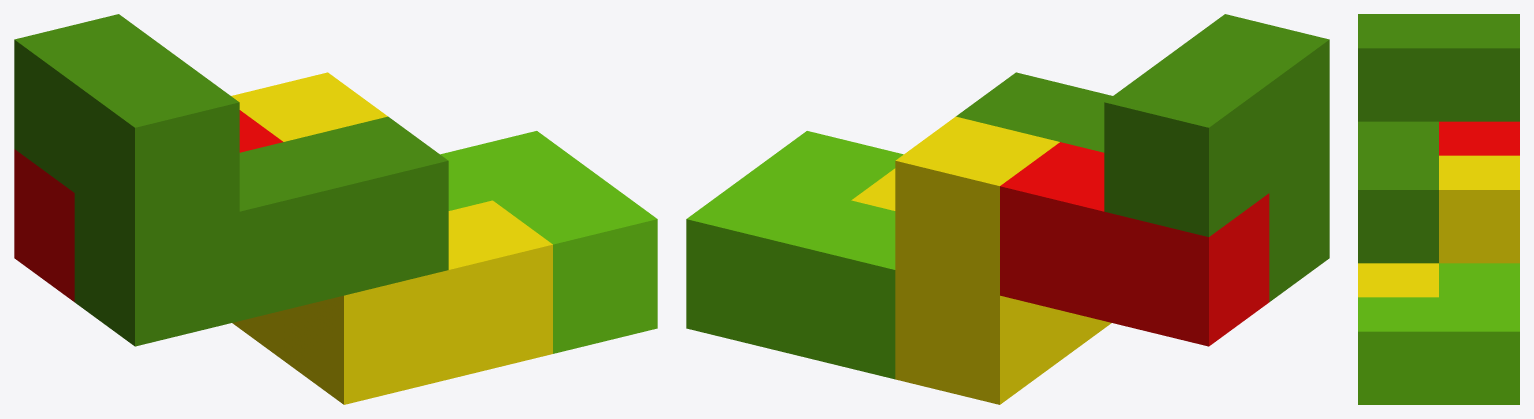
3 views of the same model, side by side, from view 1: azimuth 30°, elevation 25°; view 2: azimuth 150°, elevation 25°; view 3: azimuth 270°, elevation 25° (orthographic). The views are drawn at different scales.
Parts seen in each view (by area): view 1: mergedBlocks(Clone); view 2: mergedBlocks(Clone); view 3: mergedBlocks(Clone).
Part boxes in pixels (left/top/right/bottom): mergedBlocks(Clone): left=14, top=14, right=657, bottom=404; mergedBlocks(Clone): left=686, top=14, right=1329, bottom=404; mergedBlocks(Clone): left=1358, top=14, right=1519, bottom=404.
Bounding box in the file's own units: 5 × 3 × 2.
4 materials, 4 textured.
